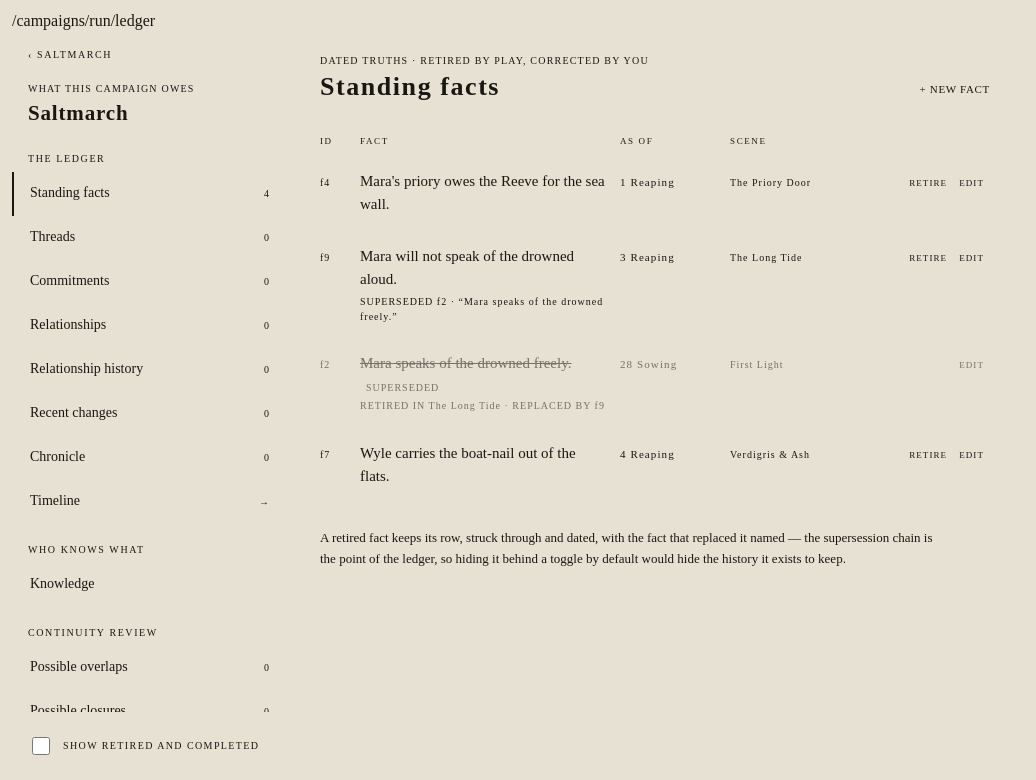
Scenario: a fact retired with nothing in its place is what the toggle is for
Expected: the table is shown, [320,135,1002,502]
Expected: the text "The gate is watched" is not shown
Click the checkbox labelled "Show retired and completed" at (41, 746), box [32,737,50,755]
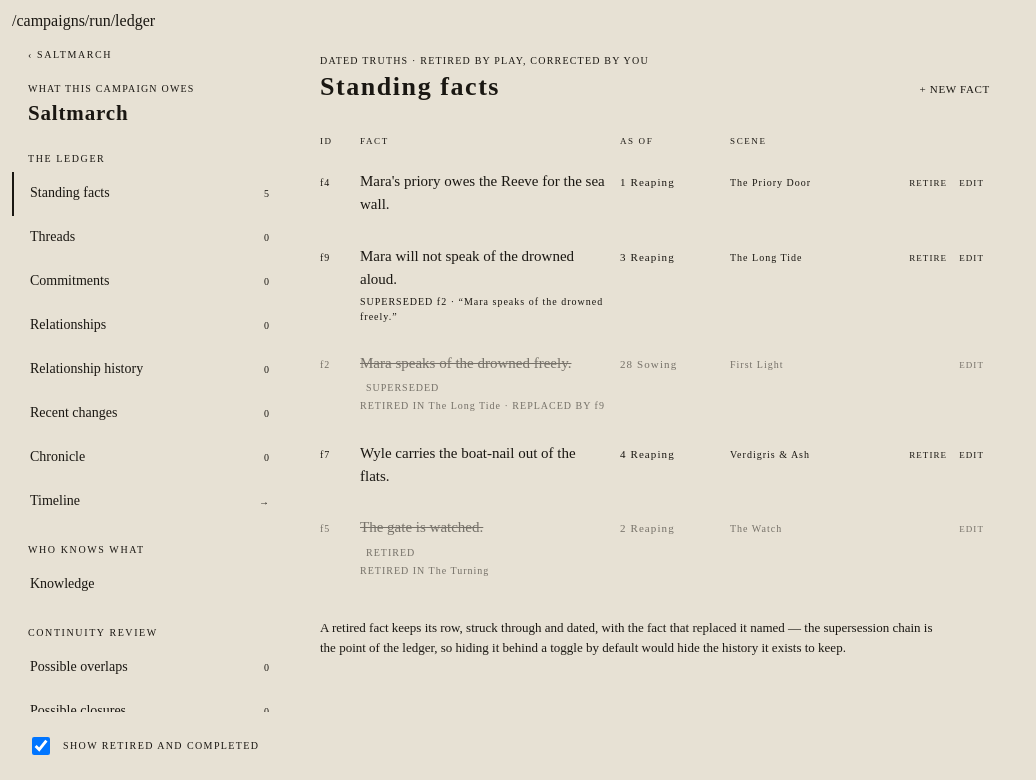
Expected: the row that starts with "The gate is watched." does not show "REPLACED BY", [320,502,1002,592]
Expected: the row that starts with "The gate is watched." shows "RETIRED IN The Turning", [360,565,489,576]
Expected: the button "Standing facts 5" is shown, [12,172,286,216]
